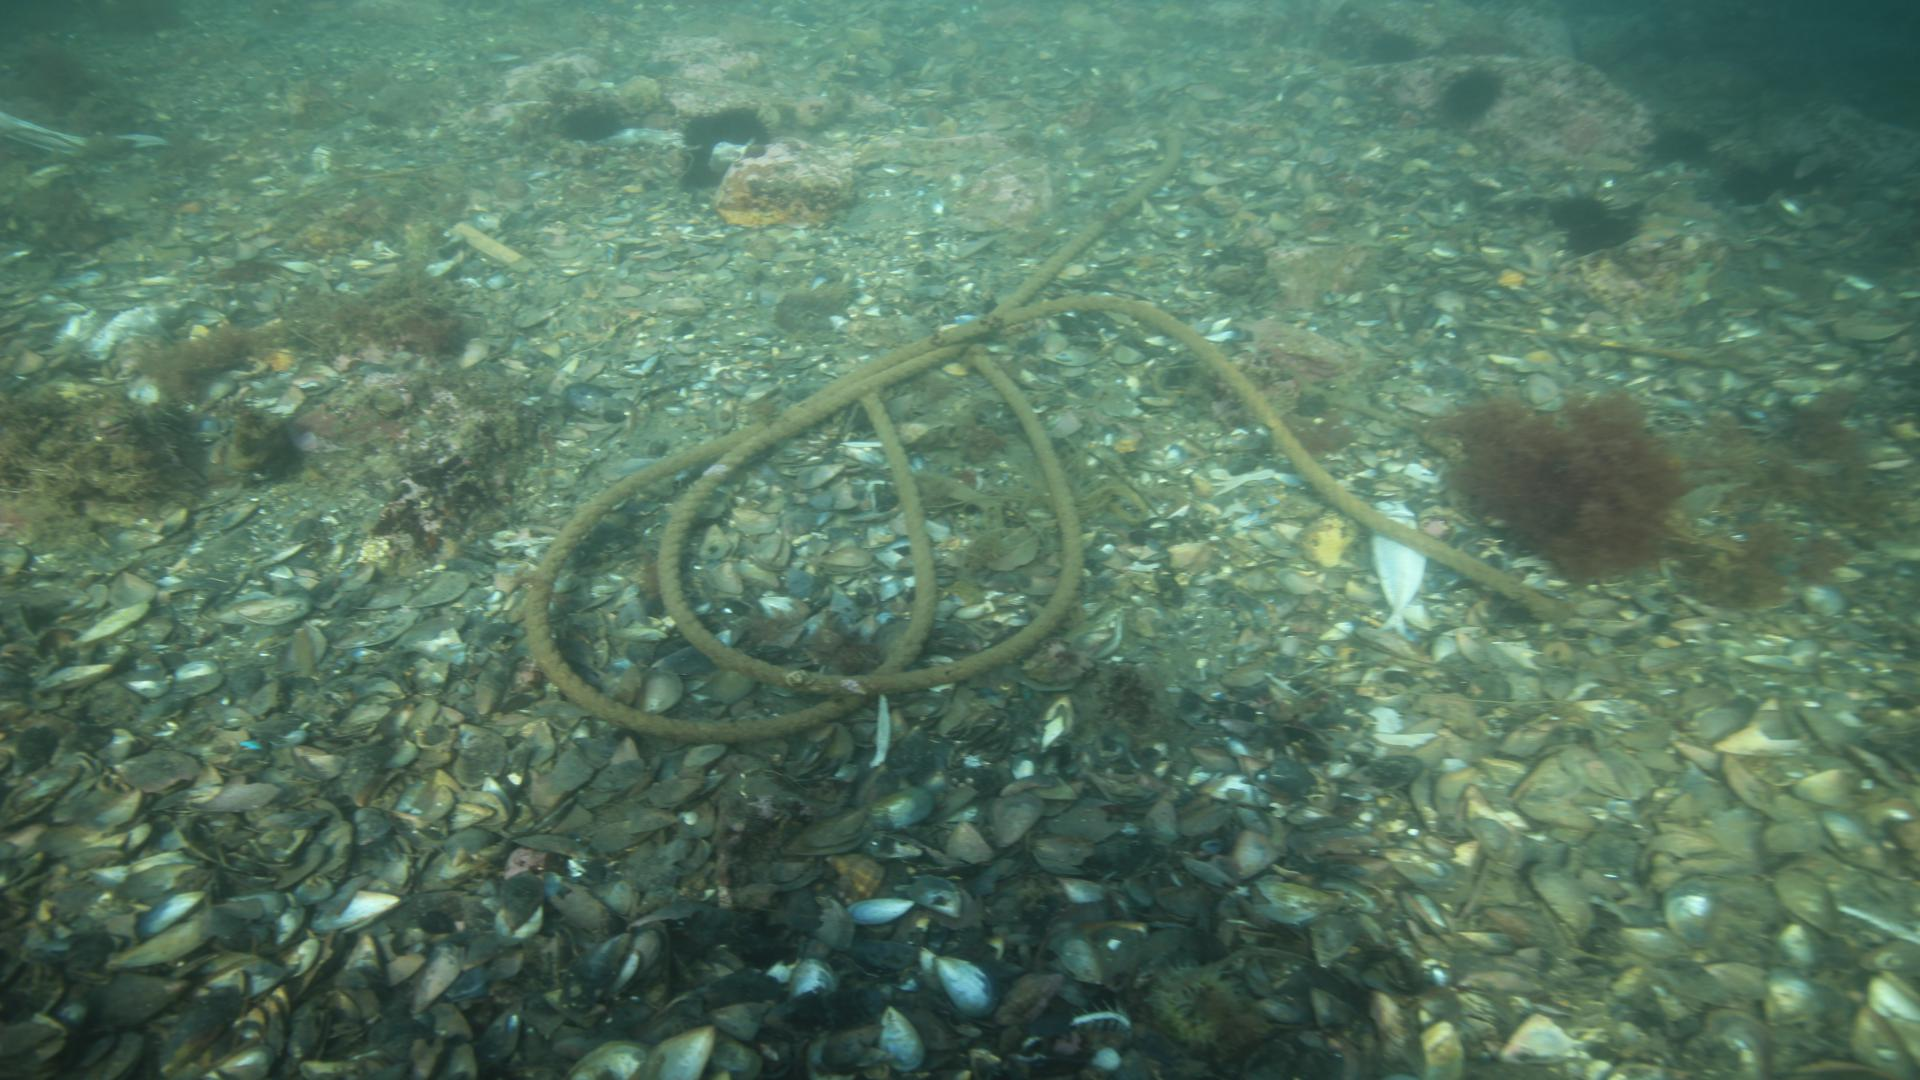bundle of ropes: (520, 128, 1564, 742)
